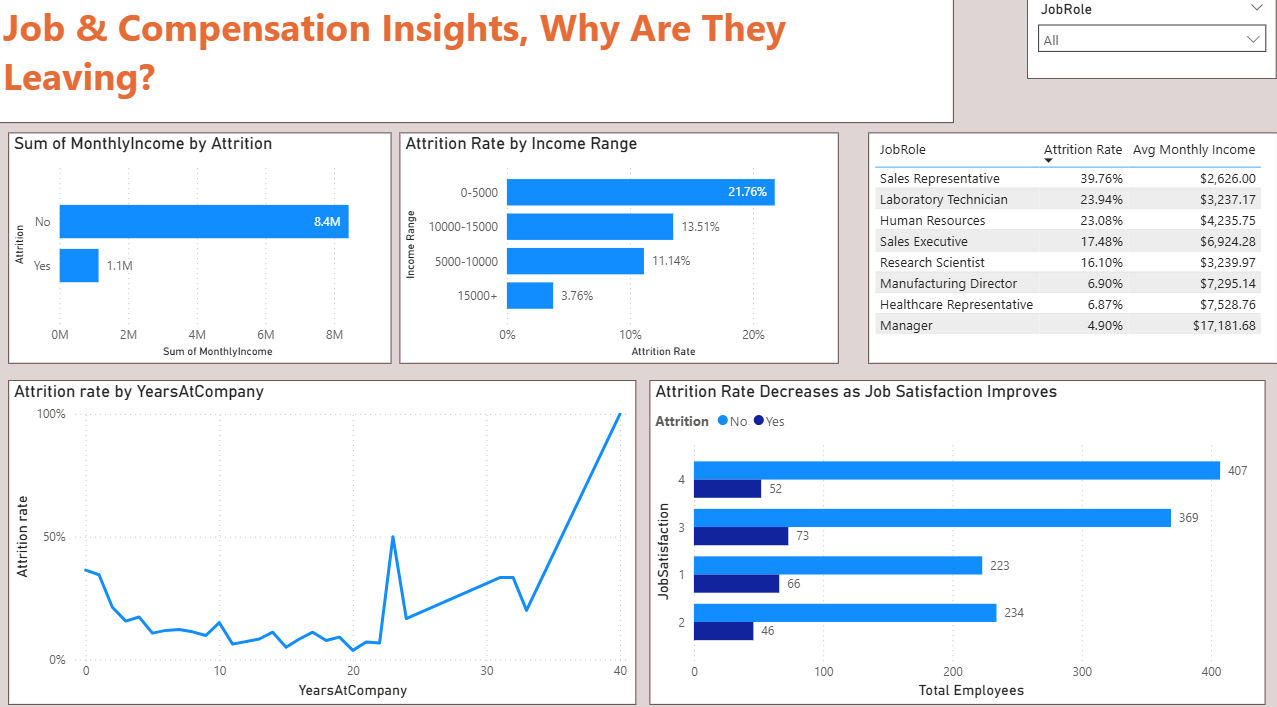

The page's visual inventory and layout, read from the dashboard file:
{"tool":"powerbi","page":{"name":"Compensation & Performance Analysis","canvas":[1280,720],"ordinal":2},"visuals":[{"type":"barChart","fields":{"Category":["HR-Employee-Attrition.Attrition"],"Y":["Sum(HR-Employee-Attrition.MonthlyIncome)"]},"box":[0,115.7,383.1,279.9],"z":0},{"type":"barChart","fields":{"Category":["HR-Employee-Attrition.Income Range"],"Y":["HR-Employee-Attrition.Attrition Percentage"]},"box":[420.5,115.7,439.1,279.9],"z":1},{"type":"clusteredBarChart","fields":{"Category":["HR-Employee-Attrition.JobSatisfaction"],"Y":["HR-Employee-Attrition.Total Employees"],"Series":["HR-Employee-Attrition.Attrition"]},"box":[653.2,395.2,627.1,325.2],"z":2},{"type":"lineChart","fields":{"Category":["HR-Employee-Attrition.YearsAtCompany"],"Y":["HR-Employee-Attrition.Attrition Percentage"]},"box":[0,395.2,653.2,325.2],"z":3},{"type":"tableEx","fields":{"Values":["HR-Employee-Attrition.JobRole","HR-Employee-Attrition.Attrition Percentage","HR-Employee-Attrition.Avg Monthly Income"]},"box":[859.6,115.7,420.5,253.8],"z":4},{"type":"slicer","fields":{"Values":["HR-Employee-Attrition.JobRole"]},"box":[1030.5,0,249.7,83.7],"z":5},{"type":"textbox","box":[0,0,956.4,115.3],"z":6}]}

Visuals, with their boxes in screenshot pixels (x1, y1, x2, y2), scaled from the page's 1280x720 canvas onto the 1277x707 screenshot:
barChart - HR-Employee-Attrition.Attrition x Sum(HR-Employee-Attrition.MonthlyIncome): [0,114,382,388]
barChart - HR-Employee-Attrition.Income Range x HR-Employee-Attrition.Attrition Percentage: [420,114,858,388]
clusteredBarChart - HR-Employee-Attrition.JobSatisfaction x HR-Employee-Attrition.Total Employees: [652,388,1276,706]
lineChart - HR-Employee-Attrition.YearsAtCompany x HR-Employee-Attrition.Attrition Percentage: [0,388,652,706]
tableEx - HR-Employee-Attrition.JobRole x HR-Employee-Attrition.Attrition Percentage: [858,114,1276,363]
slicer - HR-Employee-Attrition.JobRole: [1028,0,1276,82]
textbox: [0,0,954,113]
